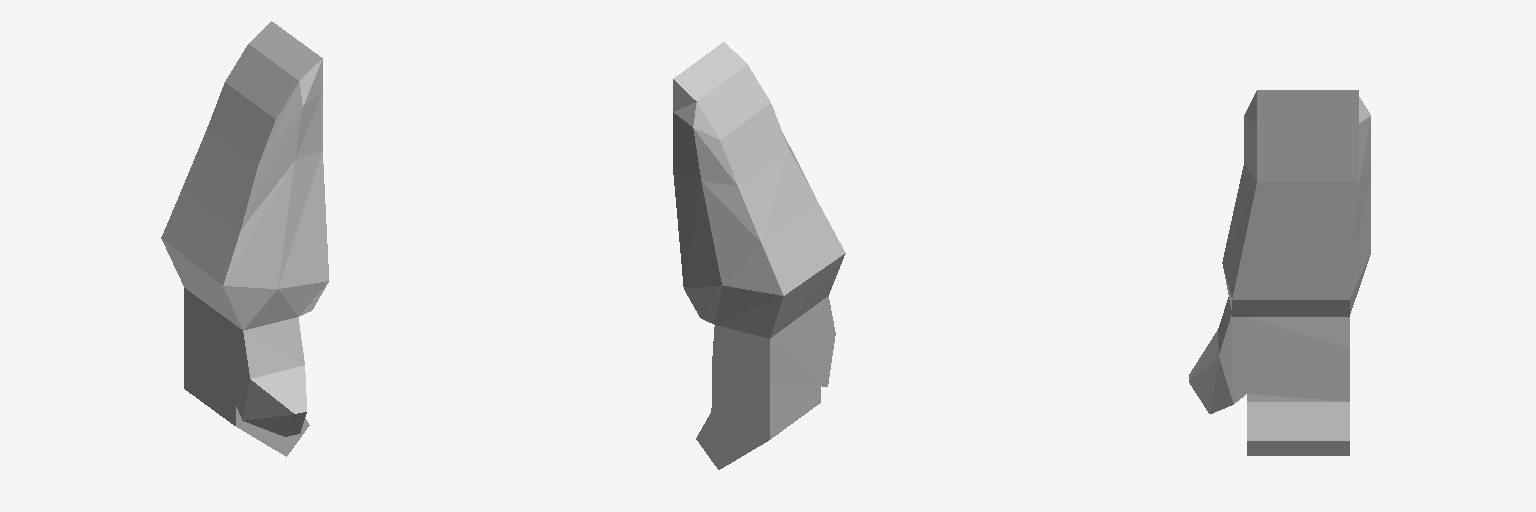
The picture shows the model from 3 angles: view 1: azimuth 30°, elevation 25°; view 2: azimuth 150°, elevation 25°; view 3: azimuth 270°, elevation 25°; orthographic projection.
Visible parts, largest first — view 1: r_arm; view 2: r_arm; view 3: r_arm.
Boxes of the visible parts, x1,y1,x2,y2 form: r_arm: [161, 21, 328, 456]; r_arm: [673, 42, 845, 469]; r_arm: [1189, 90, 1370, 455].
Bounding box in the file's own units: 0.0836 × 0.2782 × 0.1198.